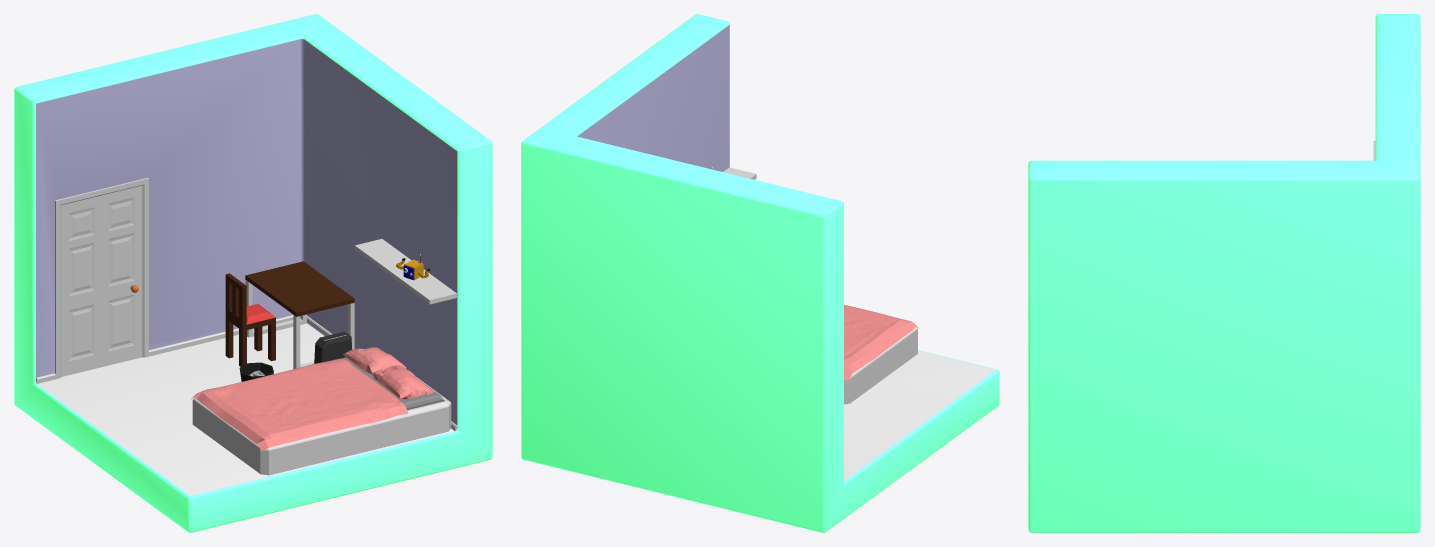
Rendered from CozzyRoom_3.glb.
The picture shows the model from 3 angles, left to right: view 1: azimuth 30°, elevation 25°; view 2: azimuth 150°, elevation 25°; view 3: azimuth 270°, elevation 25°; orthographic projection. The views are drawn at different scales.
Visible parts, largest first — view 1: Cube.026, Cube.004, Plane, Cube.002, Cube.015, Cube.023, Cube.008, Cube.007, Plane.001, Cube.005, Plane.083, Cube.012 (+2 smaller); view 2: Cube.026, Plane, Cube.002; view 3: Cube.026.
Part boxes in pixels (bbox=[...]): Cube.026: bbox=[14, 14, 492, 532]; Cube.004: bbox=[61, 185, 142, 376]; Plane: bbox=[191, 358, 408, 451]; Cube.002: bbox=[192, 357, 451, 475]; Cube.015: bbox=[245, 261, 354, 369]; Cube.023: bbox=[225, 273, 275, 366]; Cube.008: bbox=[354, 239, 456, 304]; Cube.007: bbox=[142, 178, 148, 357]; Plane.001: bbox=[372, 369, 433, 399]; Cube.005: bbox=[55, 199, 60, 379]; Plane.083: bbox=[343, 347, 406, 374]; Cube.012: bbox=[314, 331, 352, 363]; Cube.026: bbox=[521, 14, 999, 532]; Plane: bbox=[844, 305, 918, 381]; Cube.002: bbox=[844, 327, 917, 404]; Cube.026: bbox=[1028, 14, 1420, 532].
Size of the model in its own units: 2.26 by 2.26 by 2.26.
